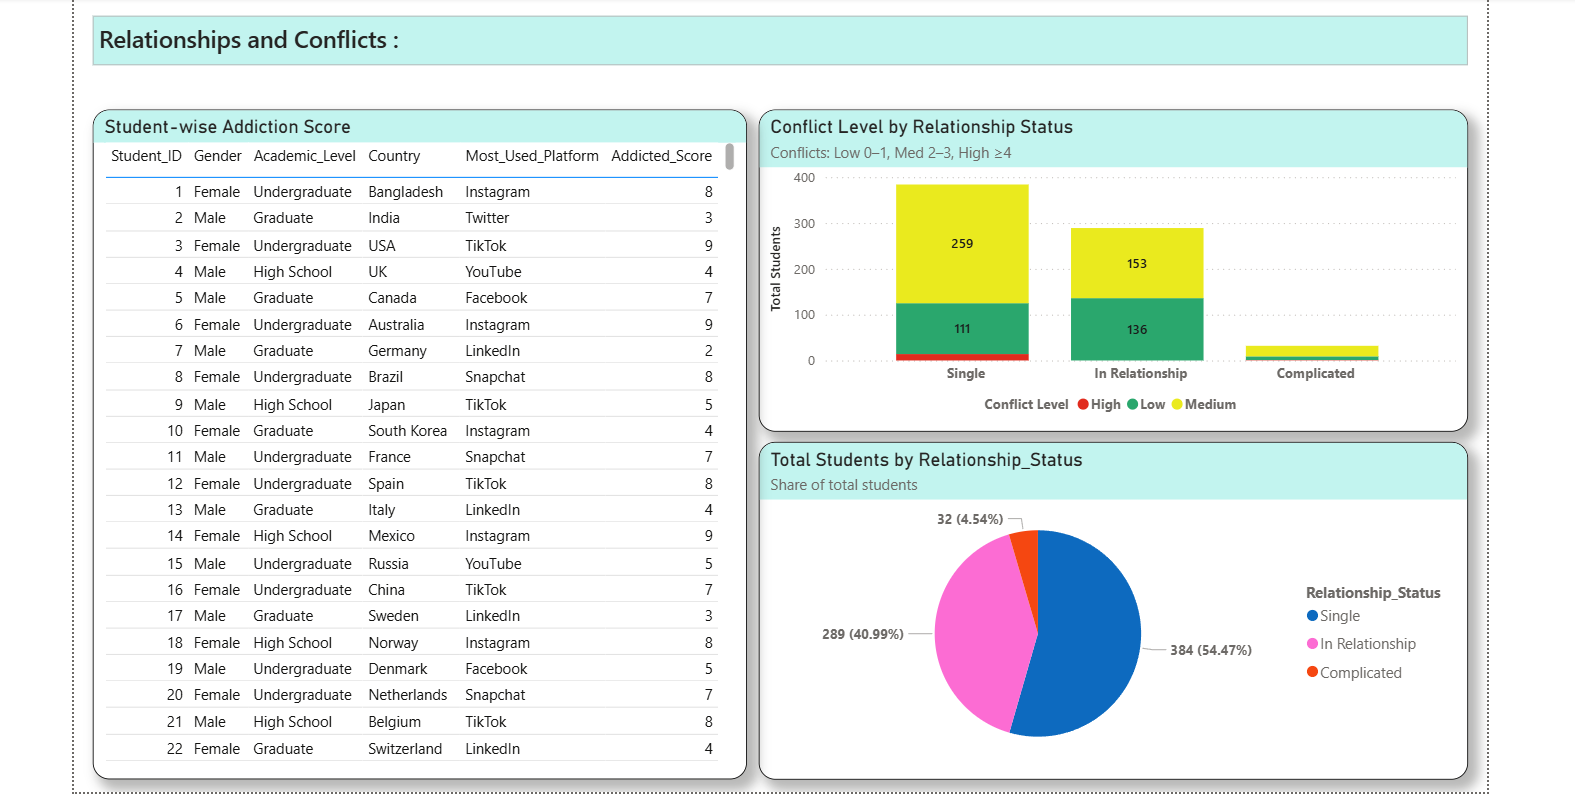

The page's visual inventory and layout, read from the dashboard file:
{"tool":"powerbi","page":{"name":"Relationships and Conflicts ","canvas":[1280,720],"ordinal":3},"visuals":[{"type":"textbox","box":[17.5,17.5,1245.5,44.4],"z":0},{"type":"columnChart","title":"Conflict Level by Relationship Status","fields":{"Category":["Student Details.Relationship_Status"],"Series":["Student Details.Conflict Level"],"Y":["Student Details.Total Students"]},"box":[620.3,102.1,642.9,291.6],"z":1000},{"type":"pieChart","fields":{"Category":["Student Details.Relationship_Status"],"Y":["Student Details.Total Students"]},"box":[620.3,403,642.9,306.2],"z":2000},{"type":"tableEx","title":"Student-wise Addiction Score","fields":{"Values":["Student Details.Student_ID","Student Details.Gender","Student Details.Academic_Level","Student Details.Country","Platform Details.Most_Used_Platform","Student Details.Addicted_Score"]},"box":[17.2,102.1,592.5,607.1],"z":3000}]}

Visuals, with their boxes on the page's 1280x720 design canvas (x1, y1, x2, y2). These are canvas units, not pixel positions in the 1575x798 screenshot, which may show the page scaled, cropped or inside an application window:
textbox: bbox=[18, 18, 1263, 62]
"Conflict Level by Relationship Status" columnChart: bbox=[620, 102, 1263, 394]
pieChart - Student Details.Relationship_Status x Student Details.Total Students: bbox=[620, 403, 1263, 709]
"Student-wise Addiction Score" tableEx: bbox=[17, 102, 610, 709]
